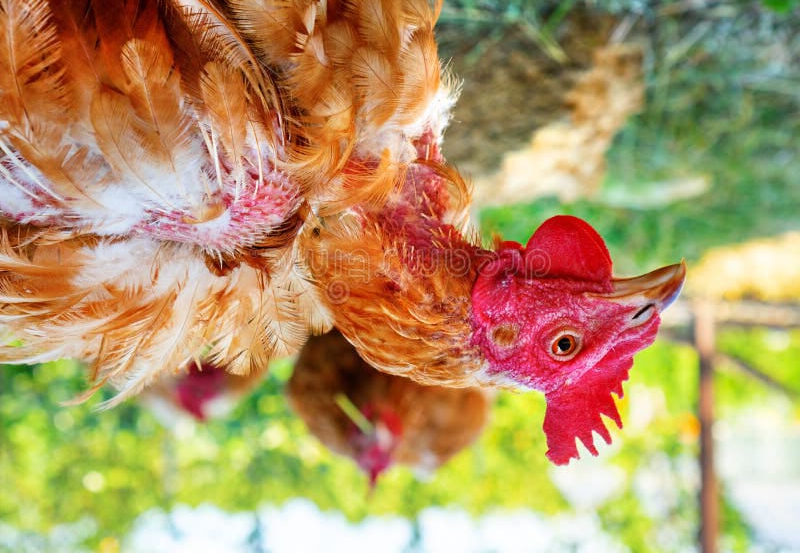Unhealthy: (12, 34, 707, 484)
